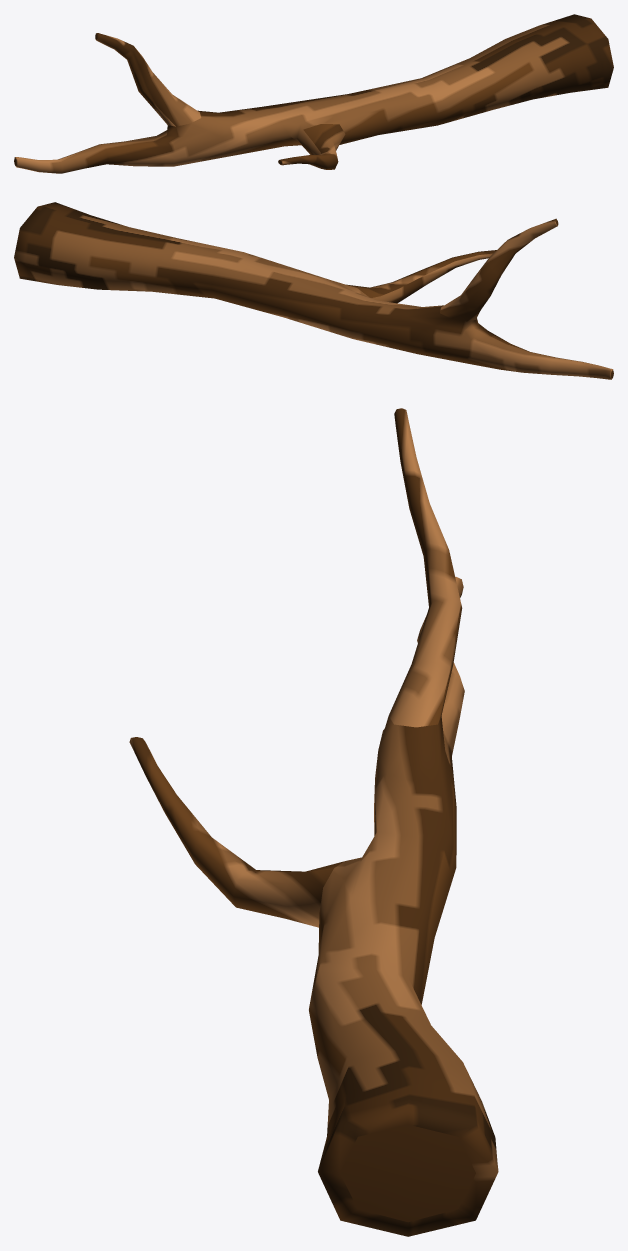
File: Branch 2.fbx
The picture shows the model from 3 angles, top to bottom: view 1: azimuth 30°, elevation 25°; view 2: azimuth 150°, elevation 25°; view 3: azimuth 270°, elevation 25°; orthographic projection. The views are drawn at different scales.
Parts seen in each view (by area): view 1: pCube67; view 2: pCube67; view 3: pCube67.
Part boxes in pixels (left/top/right/bottom): pCube67: left=14, top=14, right=613, bottom=173; pCube67: left=14, top=202, right=613, bottom=379; pCube67: left=129, top=408, right=498, bottom=1236.
Bounding box in the file's own units: 54.81 × 15.96 × 15.47.
Materials: 1 (1 with a texture image).
